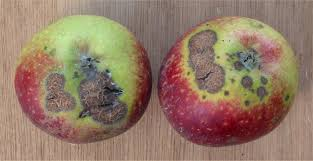damaged_apple: (157, 17, 301, 149), (16, 17, 152, 145)
